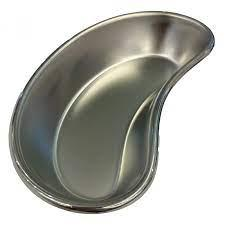Kidney Tray: (6, 9, 216, 207)
